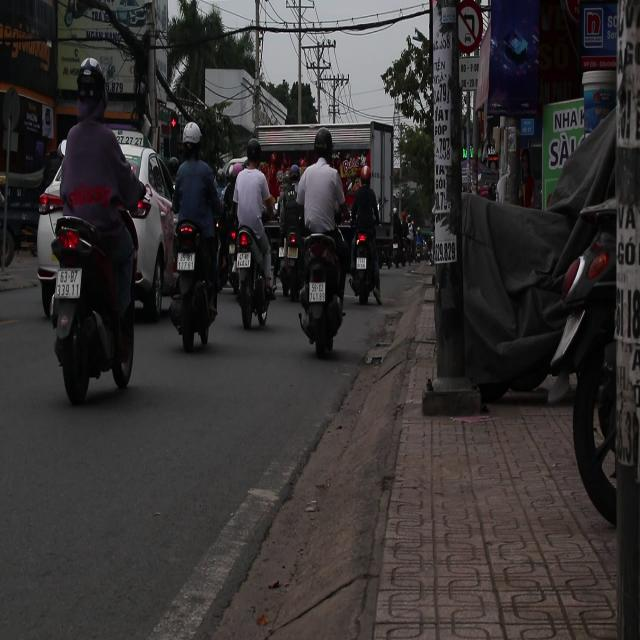motorbike: (43, 208, 137, 402), (166, 212, 220, 354), (294, 229, 346, 358), (227, 220, 275, 332), (348, 193, 383, 306), (273, 217, 302, 301)
